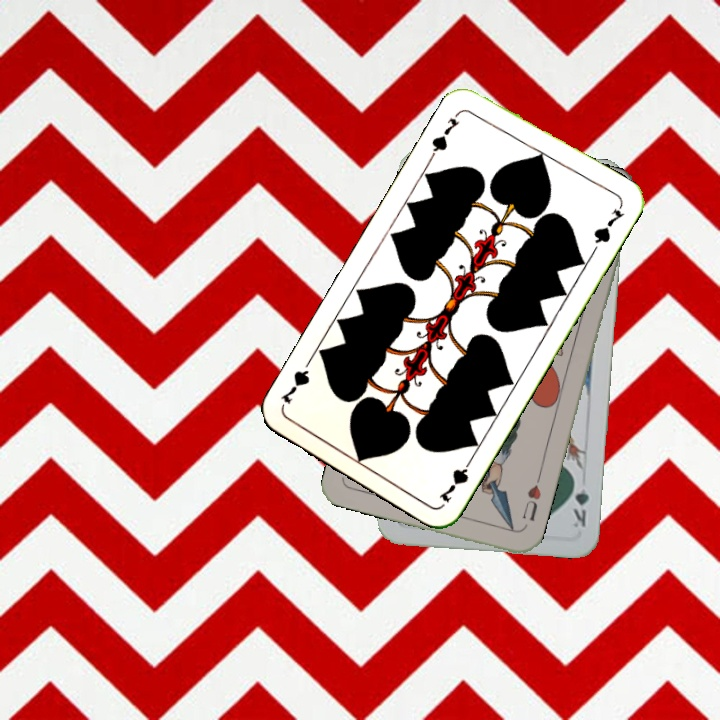G7: (434, 452, 476, 505), (427, 107, 464, 160)
GK: (568, 473, 592, 530)
HU: (518, 473, 544, 524)
